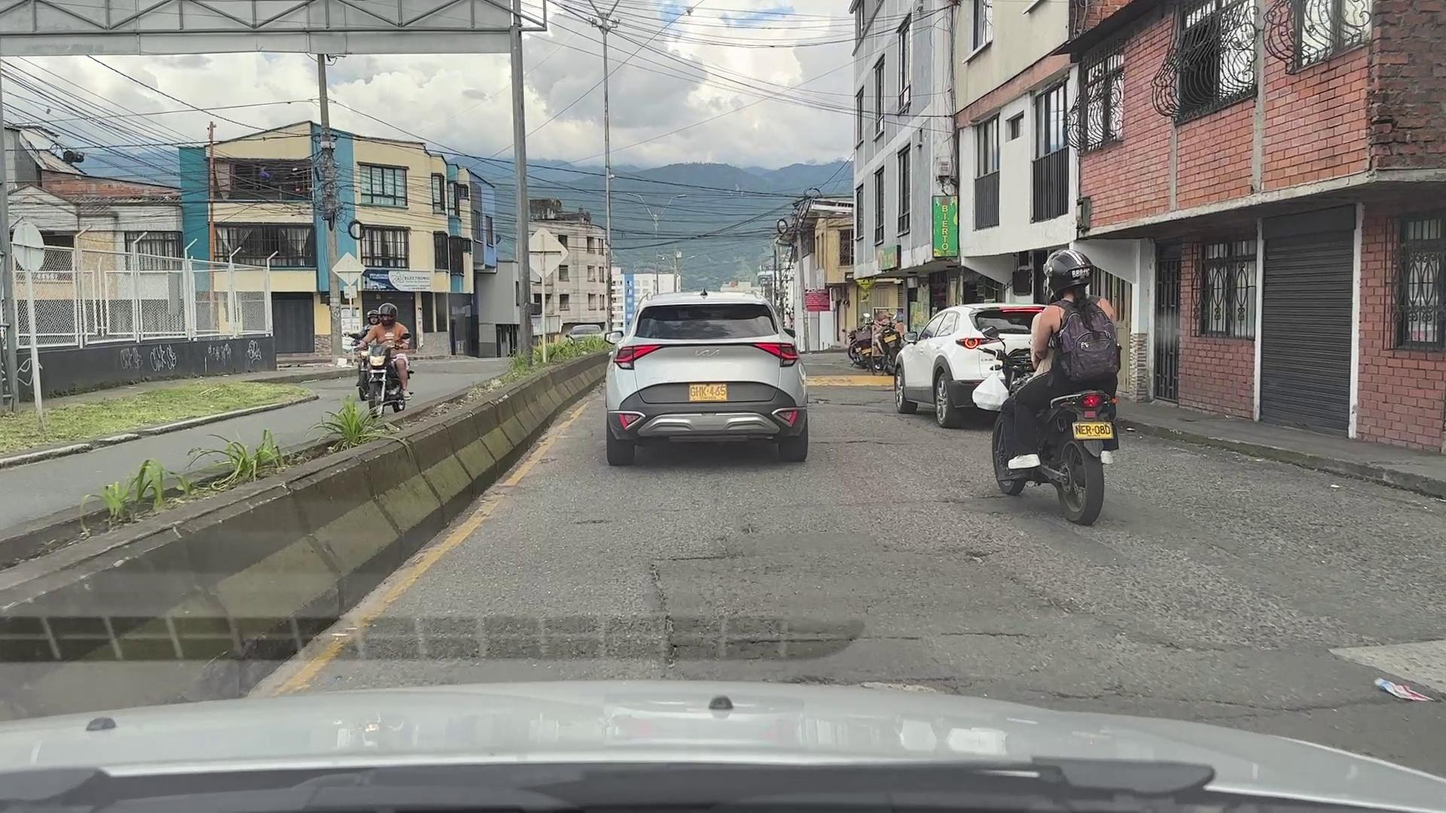bache: (967, 551, 988, 567)
grieta: (650, 564, 698, 669), (751, 637, 922, 645)
